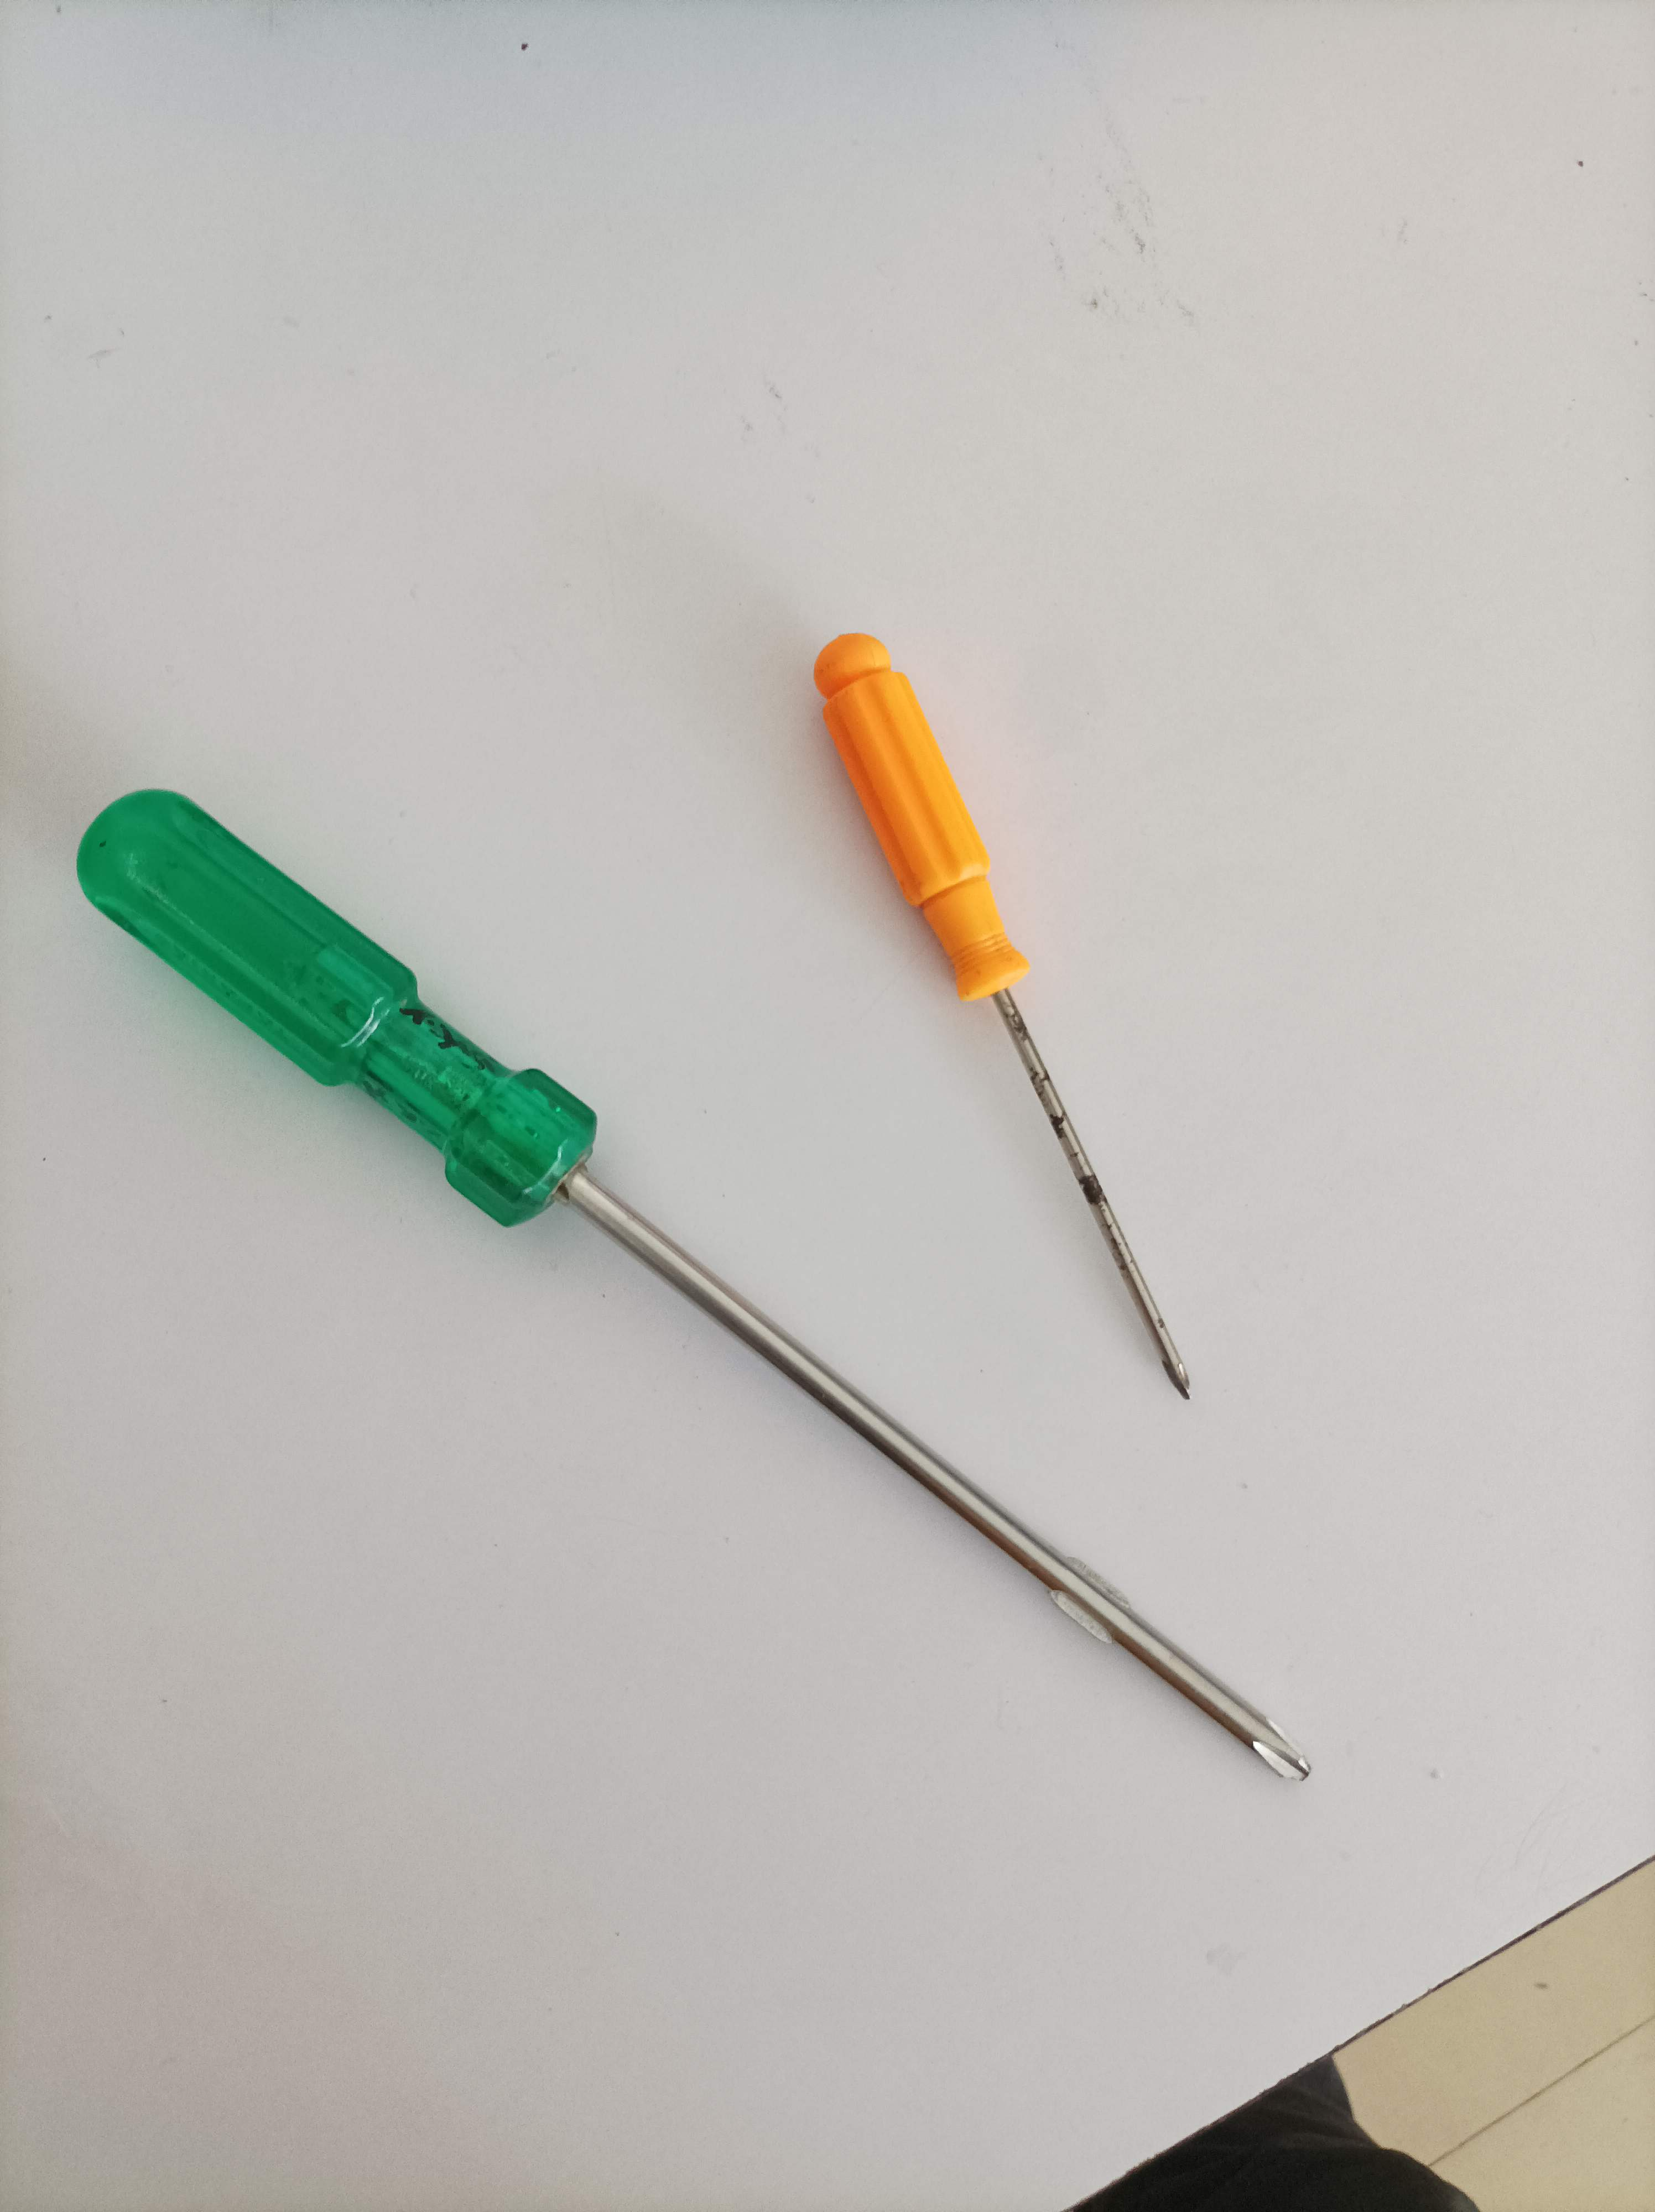screwdriver: (70, 780, 1333, 1805), (807, 615, 1201, 1421)
